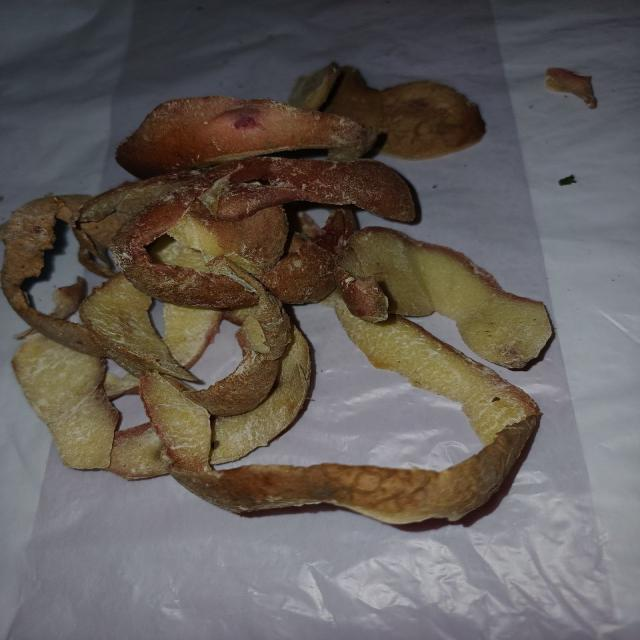organic: (7, 60, 553, 527)
